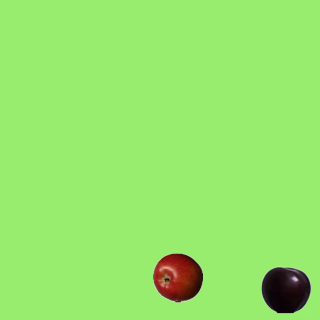Apple Braeburn: (152, 252, 202, 302)
Cherry Wax Black: (260, 264, 310, 314)
